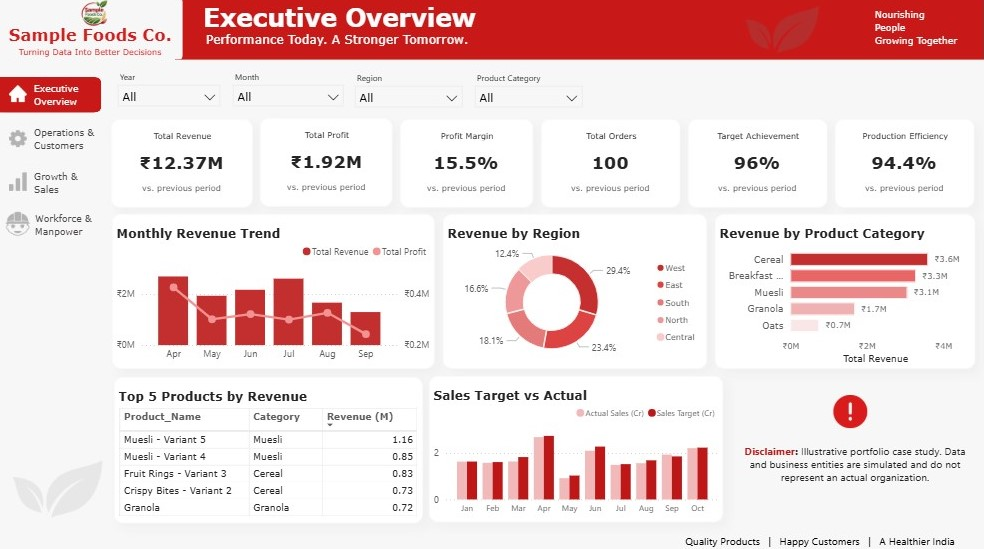

The dashboard page shown, as its layout file describes it:
{"tool":"powerbi","page":{"name":"Executive Overview","canvas":[1280,720],"ordinal":0},"visuals":[{"type":"shape","title":"Tittle_L","box":[229.3,0,1050.7,80],"z":0},{"type":"textbox","title":"Shanti Foods","box":[0,27.5,239.5,39.9],"z":0,"group":"g9"},{"type":"shape","title":"Side_Button_1_Cover","box":[0,103,125.1,46],"z":0,"group":"g3"},{"type":"slicer","title":"Slicer_Year_2","fields":{"Values":["Date_Table.Year"]},"box":[150.2,107.7,142.9,40.5],"z":0,"group":"g4"},{"type":"slicer","title":"Slicer_Year_2","fields":{"Values":["Date_Table.Month"]},"box":[299.6,108.5,153.8,40.4],"z":0,"group":"g5"},{"type":"slicer","title":"Slicer_Year_2","fields":{"Values":["Customer_Master.Region"]},"box":[459,108.7,149.5,40.5],"z":0,"group":"g6"},{"type":"slicer","title":"Slicer_Year_2","fields":{"Values":["Product_Master.Category"]},"box":[614.8,108.7,149.5,40.5],"z":0,"group":"g7"},{"type":"shape","title":"Side_Button_1_Cover","box":[0,160.9,125.1,46],"z":0,"group":"g2"},{"type":"shape","title":"Side_Button_1_Cover","box":[0,216.8,125.1,46],"z":0,"group":"g1"},{"type":"shape","title":"Side_Button_1_Cover","box":[0,272.7,125.1,46],"z":0,"group":"g8"},{"type":"shape","title":"Title_S","box":[0,0,240,80],"z":1000},{"type":"textbox","title":"Tagline","box":[0,52.3,239.5,30.3],"z":1000,"group":"g9"},{"type":"textbox","title":"Slicer_text_2","box":[158.1,91.9,138.3,20.7],"z":1000,"group":"g4"},{"type":"textbox","title":"Slicer_text_2","box":[307.2,92.8,138.3,20.7],"z":1000,"group":"g5"},{"type":"textbox","title":"Slicer_text_2","box":[466.6,92.9,138.3,20.7],"z":1000,"group":"g6"},{"type":"textbox","title":"Slicer_text_2","box":[622.4,92.9,138.3,20.7],"z":1000,"group":"g7"},{"type":"shape","title":"Side_Button_1","box":[0,102.8,134.4,46.1],"z":1000,"group":"g3"},{"type":"shape","title":"Side_Button_1","box":[0,160.7,134.4,46.1],"z":1000,"group":"g2"},{"type":"shape","title":"Side_Button_1","box":[0,216.6,134.4,46.1],"z":1000,"group":"g1"},{"type":"shape","title":"Side_Button_1","box":[0,272.5,134.4,46.1],"z":1000,"group":"g8"},{"type":"image","title":"Logoo","box":[100,0,50.4,36.8],"z":2000,"group":"g9"},{"type":"image","title":"Homo_logo","box":[14,105.8,22.8,38],"z":2000,"group":"g3"},{"type":"image","title":"Setting_logo","box":[14,163.7,22.8,38],"z":2000,"group":"g2"},{"type":"group","id":"g1","title":"Side Button 3","box":[0,216.6,134.5,46.2],"z":2000},{"type":"image","title":"Signal_logo","box":[14,219.6,22.8,38],"z":2000,"group":"g1"},{"type":"image","title":"Signal_logo","box":[9.3,264.3,32.9,58.6],"z":2000,"group":"g8"},{"type":"textbox","title":"Exec_text","box":[47.3,108.5,69.7,35.2],"z":3000,"group":"g3"},{"type":"group","id":"g2","title":"Side Button 2","box":[0,160.7,134.1,46.2],"z":3000},{"type":"textbox","title":"Ops/ customer text","box":[46.9,165.2,79.5,36.4],"z":3000,"group":"g2"},{"type":"textbox","title":"Growth/Sales text","box":[47.3,222.3,69.7,35.2],"z":3000,"group":"g1"},{"type":"textbox","title":"Growth/Sales text","box":[47.9,277.3,87.1,35],"z":3000,"group":"g8"},{"type":"group","id":"g3","title":"Side Button 1","box":[0,102.8,134.4,46.2],"z":4000},{"type":"textbox","title":"Header Tagline 1","box":[266.7,5.8,373.3,41.7],"z":5000},{"type":"textbox","title":"Header Title 1","box":[270,44.5,350.9,23.2],"z":6000},{"type":"textbox","title":"Header Sideline 1","box":[1138.7,12,130,55.3],"z":7000},{"type":"group","id":"g4","title":"Slicer 1","box":[150.2,91.9,146.1,56.2],"z":8000},{"type":"group","id":"g5","title":"Slicer 2","box":[299.6,92.8,153.8,56.1],"z":9000},{"type":"group","id":"g6","title":"Slicer 3","box":[459,92.9,149.5,56.3],"z":10000},{"type":"group","id":"g7","title":"Slicer 4","box":[614.8,92.9,149.5,56.2],"z":11000},{"type":"cardVisual","title":"Total Revenue","fields":{"Data":["Sales_Transactions.Total Revenue"]},"box":[147,156.5,183.9,115.2],"z":12000},{"type":"cardVisual","title":"Total Profit","fields":{"Data":["Sales_Transactions.Total Profit"]},"box":[340.7,156.4,172.1,115],"z":13000},{"type":"cardVisual","title":"Profit Margin","fields":{"Data":["Sales_Transactions.Profit Margin %"]},"box":[522.5,156.7,172.5,115],"z":14000},{"type":"cardVisual","title":"Total Orders","fields":{"Data":["Sales_Transactions.Total Orders"]},"box":[705.8,156.7,180.8,115],"z":15000},{"type":"cardVisual","title":"Target Achievement","fields":{"Data":["Sales_Performance.Target Achievement %"]},"box":[896.7,156.7,180.8,115],"z":16000},{"type":"cardVisual","title":"Production Efficiency","fields":{"Data":["Production.Production Efficiency %"]},"box":[1087.5,156.7,180.8,115],"z":17000},{"type":"lineClusteredColumnComboChart","title":"Monthly Revenue Trend","fields":{"Category":["Date_Table.Month_Short"],"Y":["Sales_Transactions.Total Revenue"],"Y2":["Sales_Transactions.Total Profit"]},"box":[147.5,280,418.8,201.2],"z":18000},{"type":"donutChart","title":"Revenue by Region","fields":{"Category":["Customer_Master.Region"],"Y":["Sales_Transactions.Total Revenue"]},"box":[577.5,280,342.5,200.8],"z":19000},{"type":"barChart","title":"Revenue by Product Category","fields":{"Category":["Product_Master.Category"],"Y":["Sales_Transactions.Total Revenue"]},"box":[930.6,280,337.6,201.2],"z":20000},{"type":"tableEx","title":"Top 5 Products by Revenue","fields":{"Values":["Product_Master.Product_Name","Product_Master.Category","Complaints_Returns.Total Revenue (M)"]},"box":[150,491.8,400.9,190],"z":21000},{"type":"clusteredColumnChart","title":"Sales Target vs Actual","fields":{"Category":["Date_Table.Month_Short"],"Y":["Complaints_Returns.Actual Sales (Cr)","Complaints_Returns.Sales Target (Cr)"]},"box":[560,491.5,381.5,190],"z":22000},{"type":"textbox","title":"Footer","box":[856.4,690.9,423.6,29.1],"z":23000},{"type":"textbox","box":[955.6,574.4,314.4,87.8],"z":24000},{"type":"image","box":[1077.8,515.6,57.8,43.3],"z":25000},{"type":"image","title":"Bird","box":[0,555,150,165],"z":26000},{"type":"image","title":"Bird","box":[941.7,0,150,81.7],"z":27000},{"type":"group","id":"g8","title":"Side Button 4","box":[0,264.3,135,58.6],"z":28000},{"type":"group","id":"g9","title":"TOP LOGO","box":[0,0,239.5,82.6],"z":29000}]}

Visuals, with their boxes in screenshot pixels (x1, y1, x2, y2), scaled from the page's 1280x720 canvas onto the 984x549 screenshot:
"Tittle_L" shape: [176, 0, 983, 61]
"Shanti Foods" textbox: [0, 21, 184, 51]
"Side_Button_1_Cover" shape: [0, 79, 96, 114]
"Slicer_Year_2" slicer: [115, 82, 225, 113]
"Slicer_Year_2" slicer: [230, 83, 349, 114]
"Slicer_Year_2" slicer: [353, 83, 468, 114]
"Slicer_Year_2" slicer: [473, 83, 588, 114]
"Side_Button_1_Cover" shape: [0, 123, 96, 158]
"Side_Button_1_Cover" shape: [0, 165, 96, 200]
"Side_Button_1_Cover" shape: [0, 208, 96, 243]
"Title_S" shape: [0, 0, 184, 61]
"Tagline" textbox: [0, 40, 184, 63]
"Slicer_text_2" textbox: [122, 70, 228, 86]
"Slicer_text_2" textbox: [236, 71, 342, 87]
"Slicer_text_2" textbox: [359, 71, 465, 87]
"Slicer_text_2" textbox: [478, 71, 585, 87]
"Side_Button_1" shape: [0, 78, 103, 114]
"Side_Button_1" shape: [0, 123, 103, 158]
"Side_Button_1" shape: [0, 165, 103, 200]
"Side_Button_1" shape: [0, 208, 103, 243]
"Logoo" image: [77, 0, 116, 28]
"Homo_logo" image: [11, 81, 28, 110]
"Setting_logo" image: [11, 125, 28, 154]
"Side Button 3" group: [0, 165, 103, 200]
"Signal_logo" image: [11, 167, 28, 196]
"Signal_logo" image: [7, 202, 32, 246]
"Exec_text" textbox: [36, 83, 90, 110]
"Side Button 2" group: [0, 123, 103, 158]
"Ops/ customer text" textbox: [36, 126, 97, 154]
"Growth/Sales text" textbox: [36, 170, 90, 196]
"Growth/Sales text" textbox: [37, 211, 104, 238]
"Side Button 1" group: [0, 78, 103, 114]
"Header Tagline 1" textbox: [205, 4, 492, 36]
"Header Title 1" textbox: [208, 34, 477, 52]
"Header Sideline 1" textbox: [875, 9, 975, 51]
"Slicer 1" group: [115, 70, 228, 113]
"Slicer 2" group: [230, 71, 349, 114]
"Slicer 3" group: [353, 71, 468, 114]
"Slicer 4" group: [473, 71, 588, 114]
"Total Revenue" cardVisual: [113, 119, 254, 207]
"Total Profit" cardVisual: [262, 119, 394, 207]
"Profit Margin" cardVisual: [402, 119, 534, 207]
"Total Orders" cardVisual: [543, 119, 682, 207]
"Target Achievement" cardVisual: [689, 119, 828, 207]
"Production Efficiency" cardVisual: [836, 119, 975, 207]
"Monthly Revenue Trend" lineClusteredColumnComboChart: [113, 214, 435, 367]
"Revenue by Region" donutChart: [444, 214, 707, 367]
"Revenue by Product Category" barChart: [715, 214, 975, 367]
"Top 5 Products by Revenue" tableEx: [115, 375, 424, 520]
"Sales Target vs Actual" clusteredColumnChart: [430, 375, 724, 520]
"Footer" textbox: [658, 527, 983, 548]
textbox: [735, 438, 976, 505]
image: [829, 393, 873, 426]
"Bird" image: [0, 423, 115, 548]
"Bird" image: [724, 0, 839, 62]
"Side Button 4" group: [0, 202, 104, 246]
"TOP LOGO" group: [0, 0, 184, 63]
